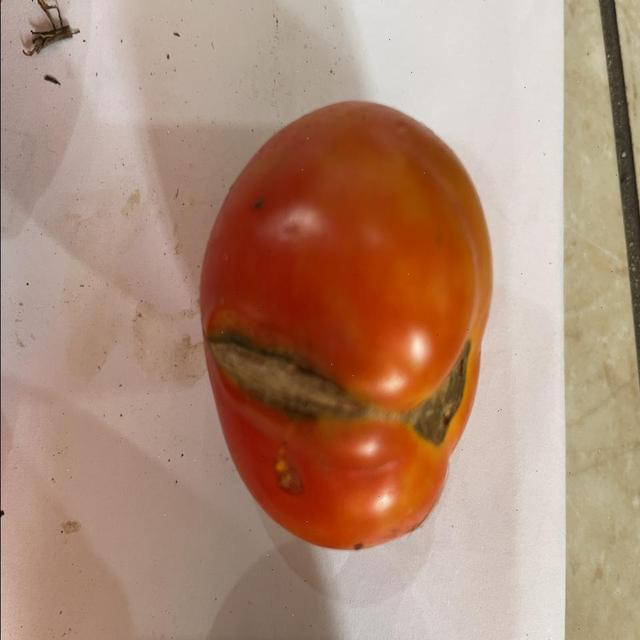Cracking Fruit: (137, 215, 246, 294)
